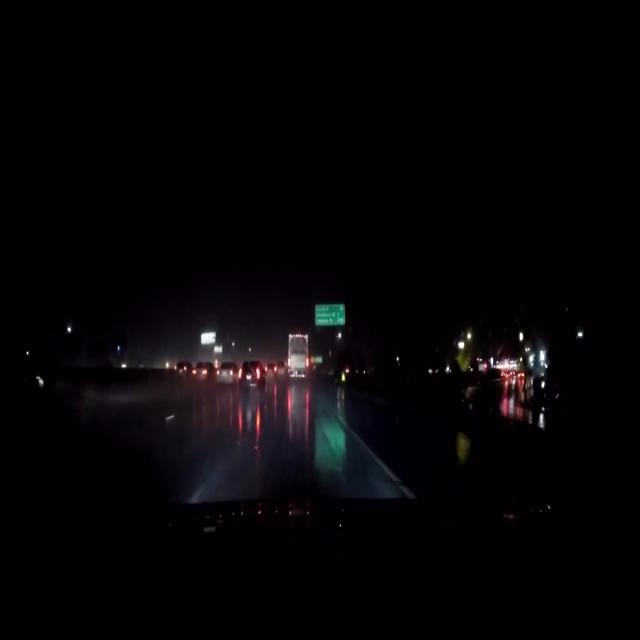Car: (238, 362, 265, 391), (212, 361, 237, 387)
